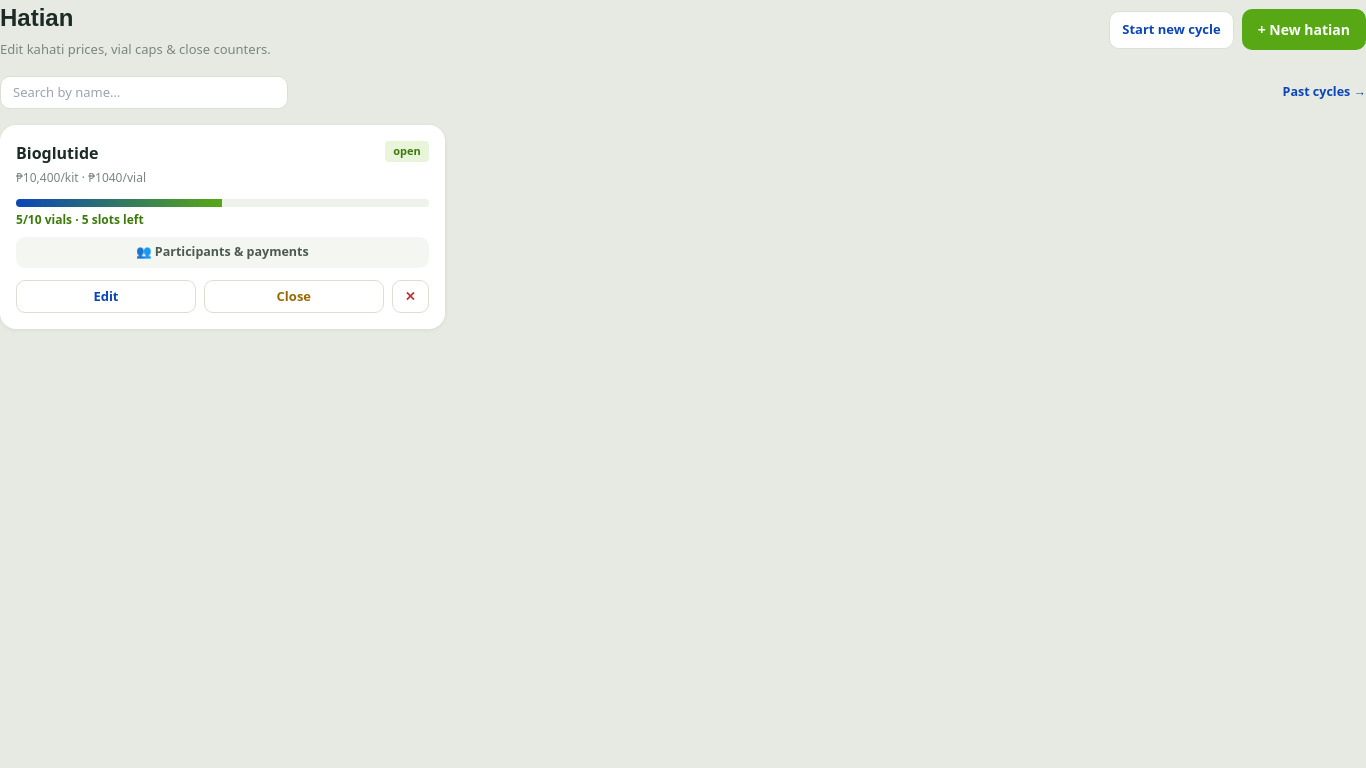
Test case: the board names itself Hatian › creates a hatian, not a group buy
This screenshot has width=1366, height=768.
Click the button "+ New hatian". click: coordinates (1304, 30)
box: [1242,9,1365,50]
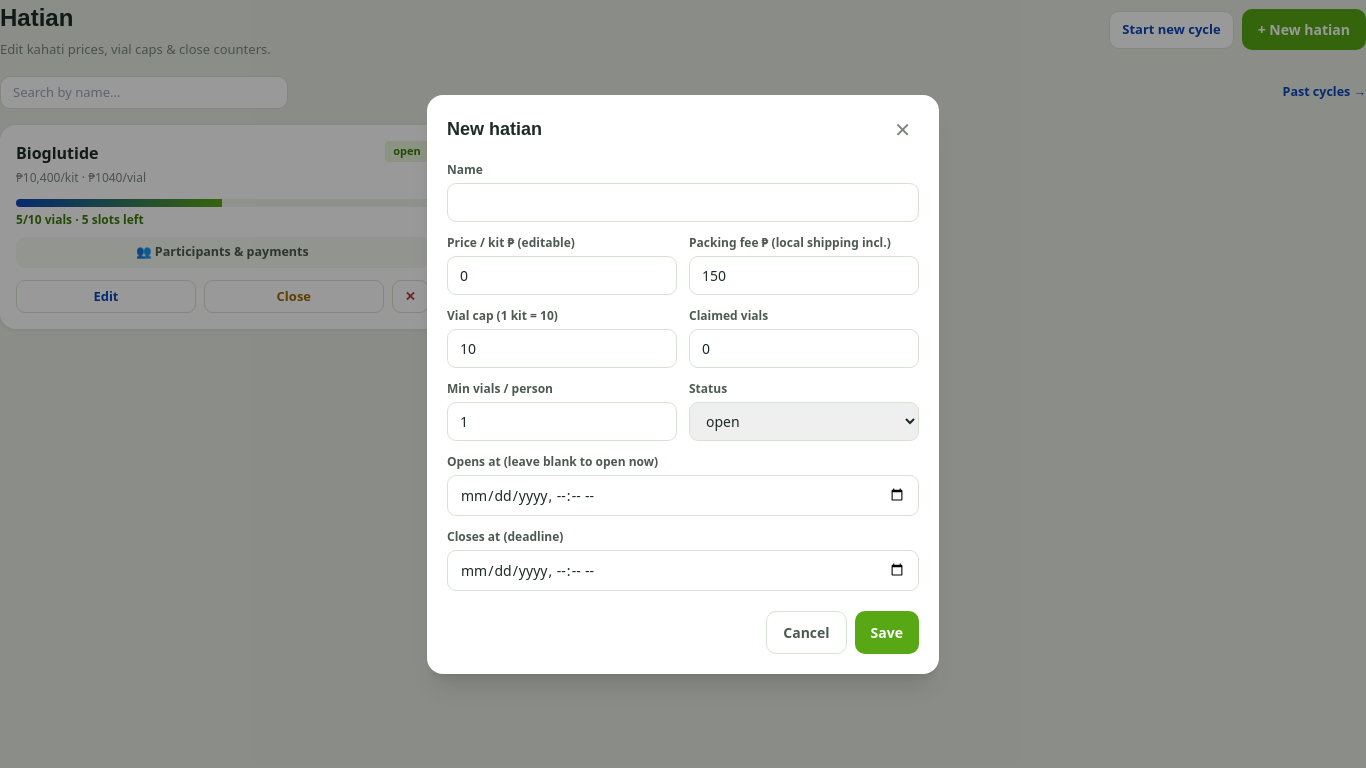
Expected: the text "New hatian" is shown, [447,116,542,143]
